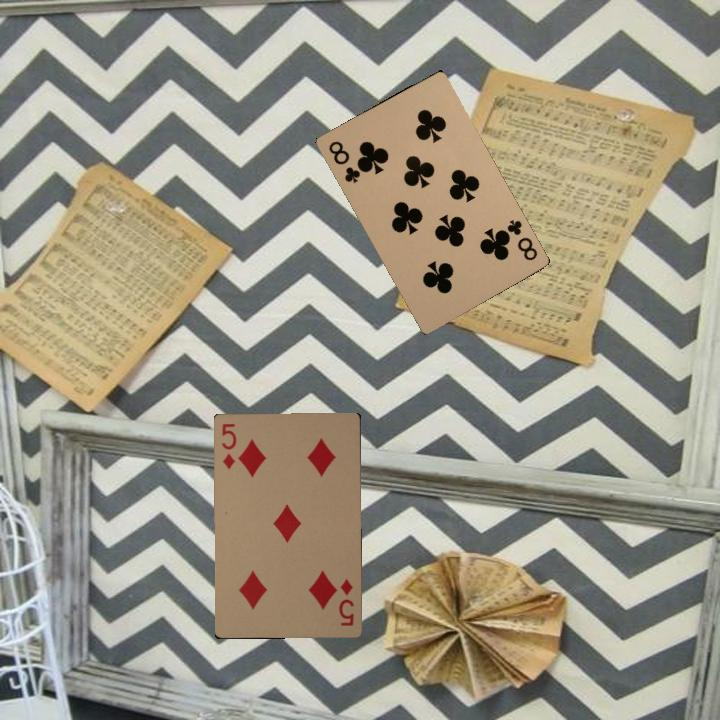5d: (335, 575, 356, 628), (218, 419, 239, 472)
8c: (499, 216, 540, 263), (324, 137, 363, 186)
